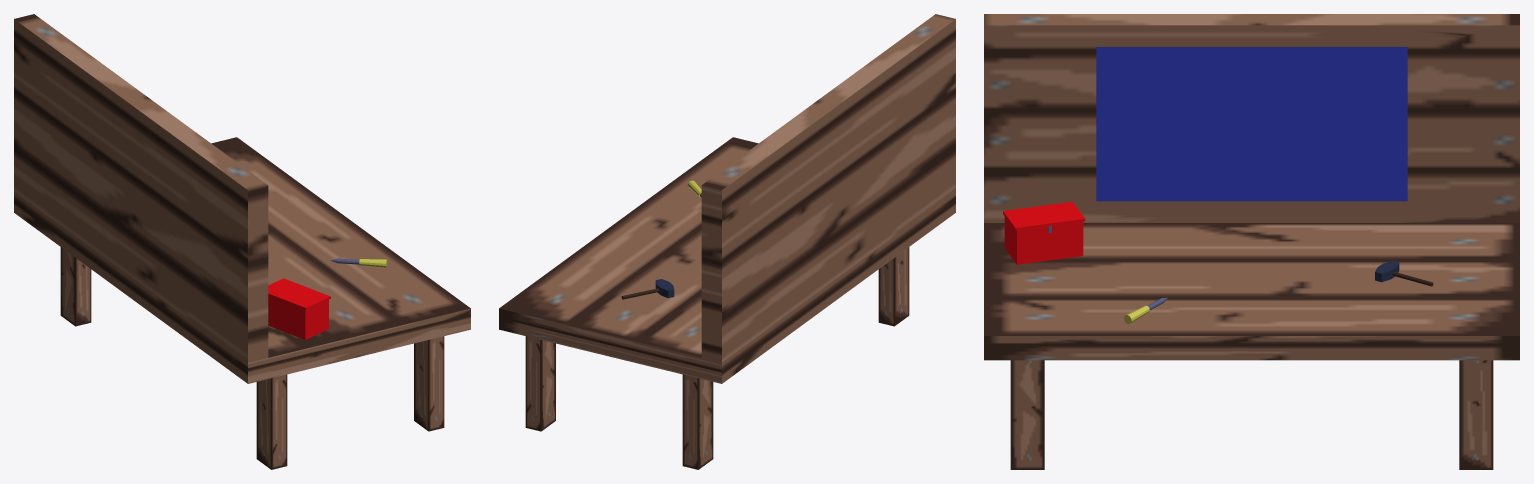
File: Taller.fbx
3 renders of one model, left to right at view 1: azimuth 30°, elevation 25°; view 2: azimuth 150°, elevation 25°; view 3: azimuth 270°, elevation 25°, orthographic. The views are drawn at different scales.
Visible parts, largest first — view 1: Cube.098; view 2: Cube.098; view 3: Cube.098.
Part boxes in pixels (left/top/right/bottom): Cube.098: left=14, top=14, right=470, bottom=469; Cube.098: left=499, top=14, right=955, bottom=469; Cube.098: left=984, top=14, right=1519, bottom=469.
Size of the model in its own units: 550 by 1000 by 700.
7 materials, 2 textured.
